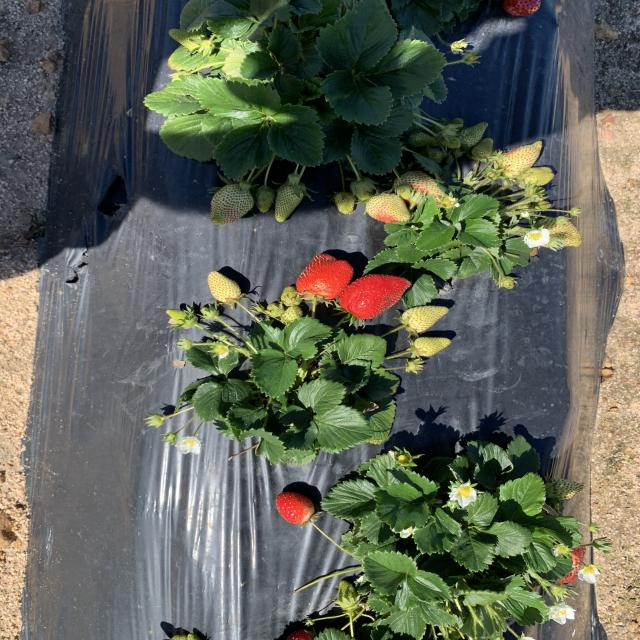unripe: (342, 273, 412, 321), (297, 255, 353, 301), (539, 540, 585, 584), (276, 492, 316, 524), (503, 0, 544, 18), (283, 627, 317, 640)
